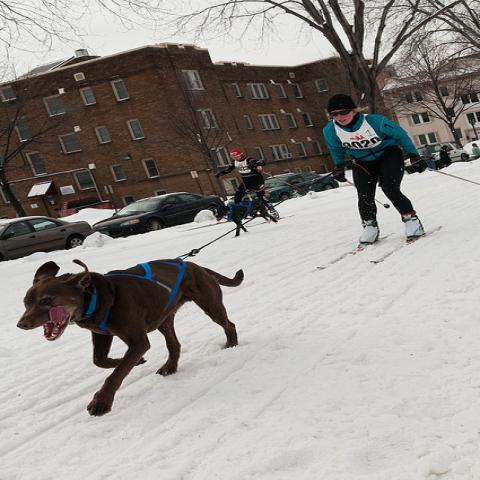car: (94, 191, 224, 239), (1, 216, 94, 262), (264, 173, 339, 203), (404, 140, 470, 174), (428, 140, 464, 149)
